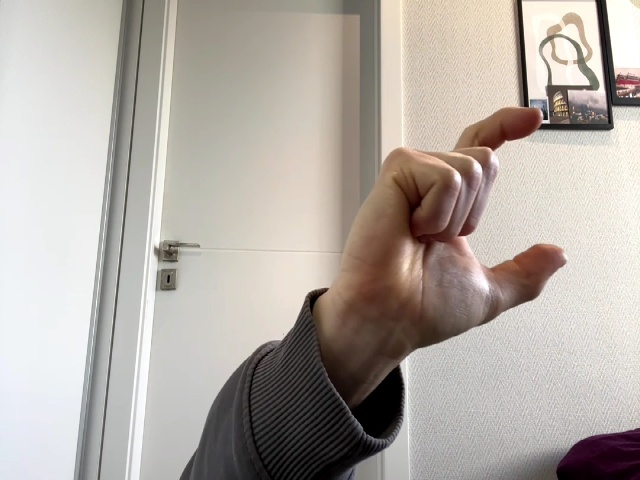C: (336, 107, 568, 353)
